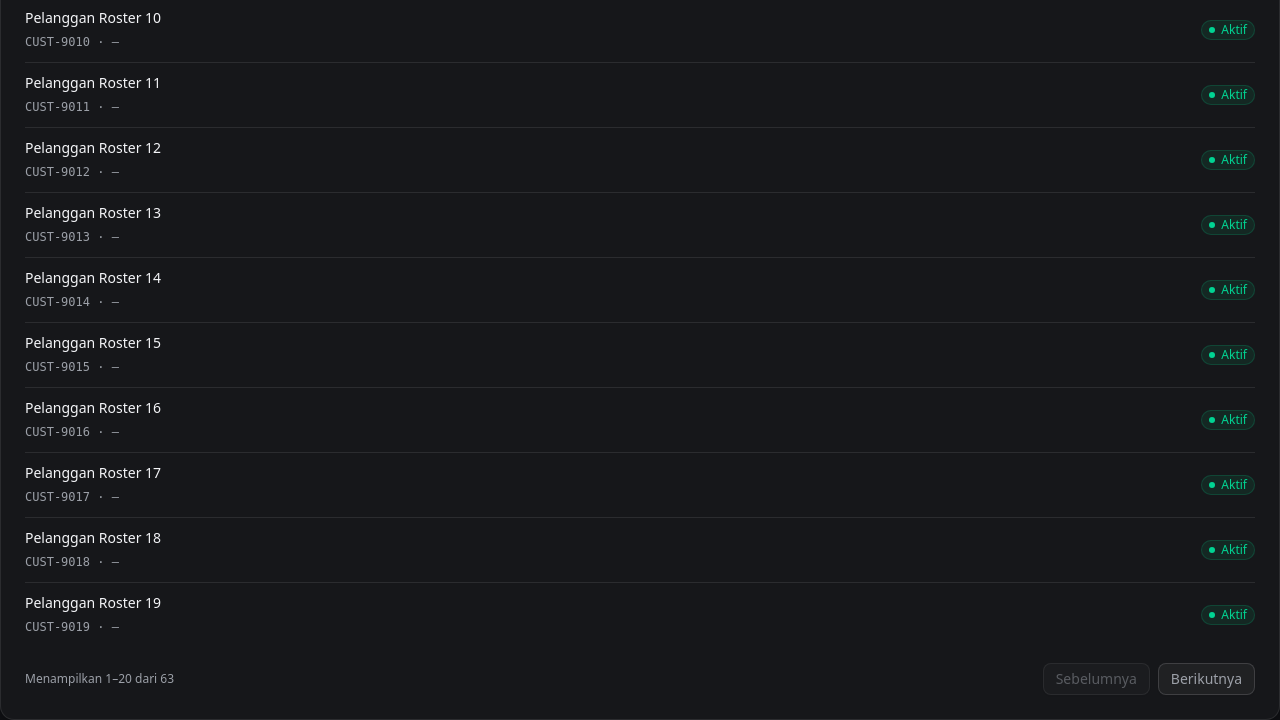
it: ResellerCustomersCard › pages through the roster server-side
The width and height of the screenshot is (1280, 720).
(page scrolled)
Click the button "Berikutnya".
click(1206, 679)  # box [1158,663,1255,695]
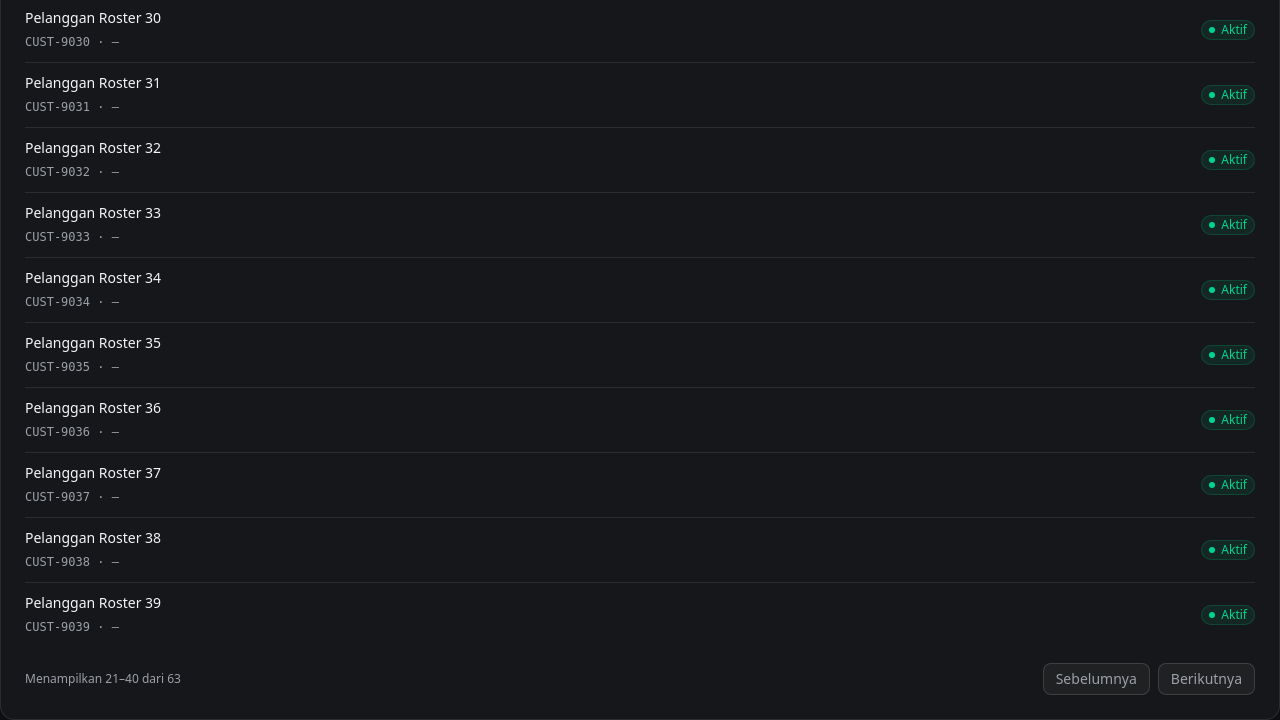
Expected: the text "Menampilkan 21–40 dari 63" is shown, [25,671,181,687]
